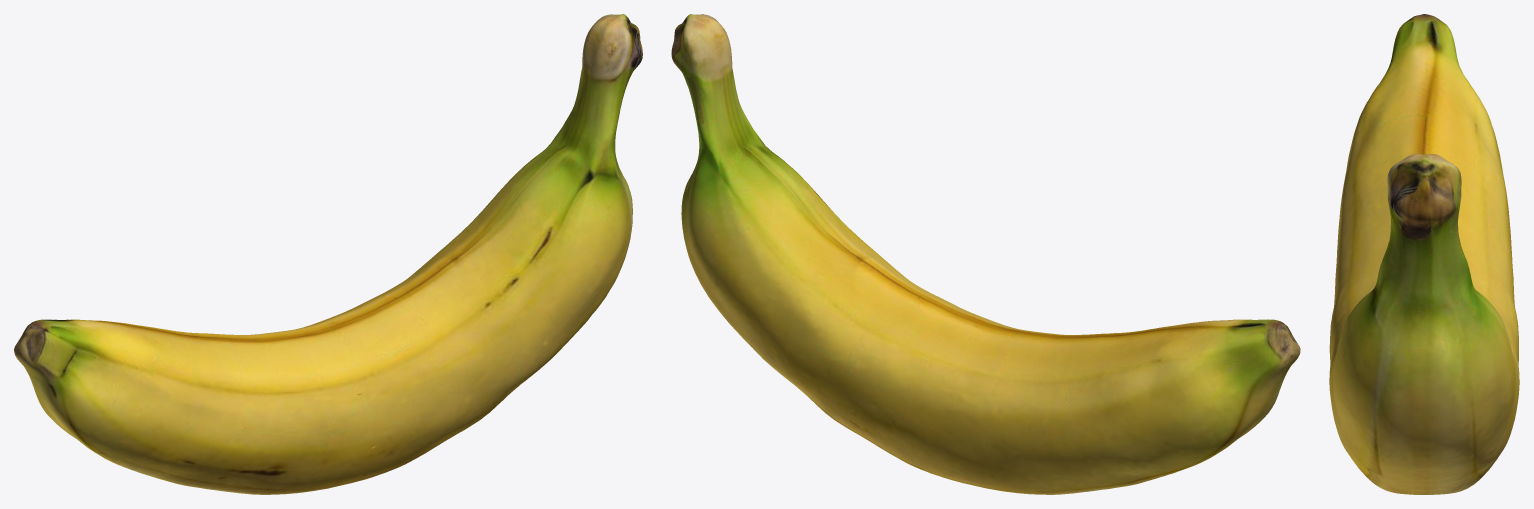
The picture shows the model from 3 angles, left to right: view 1: azimuth 30°, elevation 25°; view 2: azimuth 150°, elevation 25°; view 3: azimuth 270°, elevation 25°; orthographic projection. The views are drawn at different scales.
Size of the model in its own units: 1.9 by 1.14 by 0.4199.
1 material, 1 textured.
